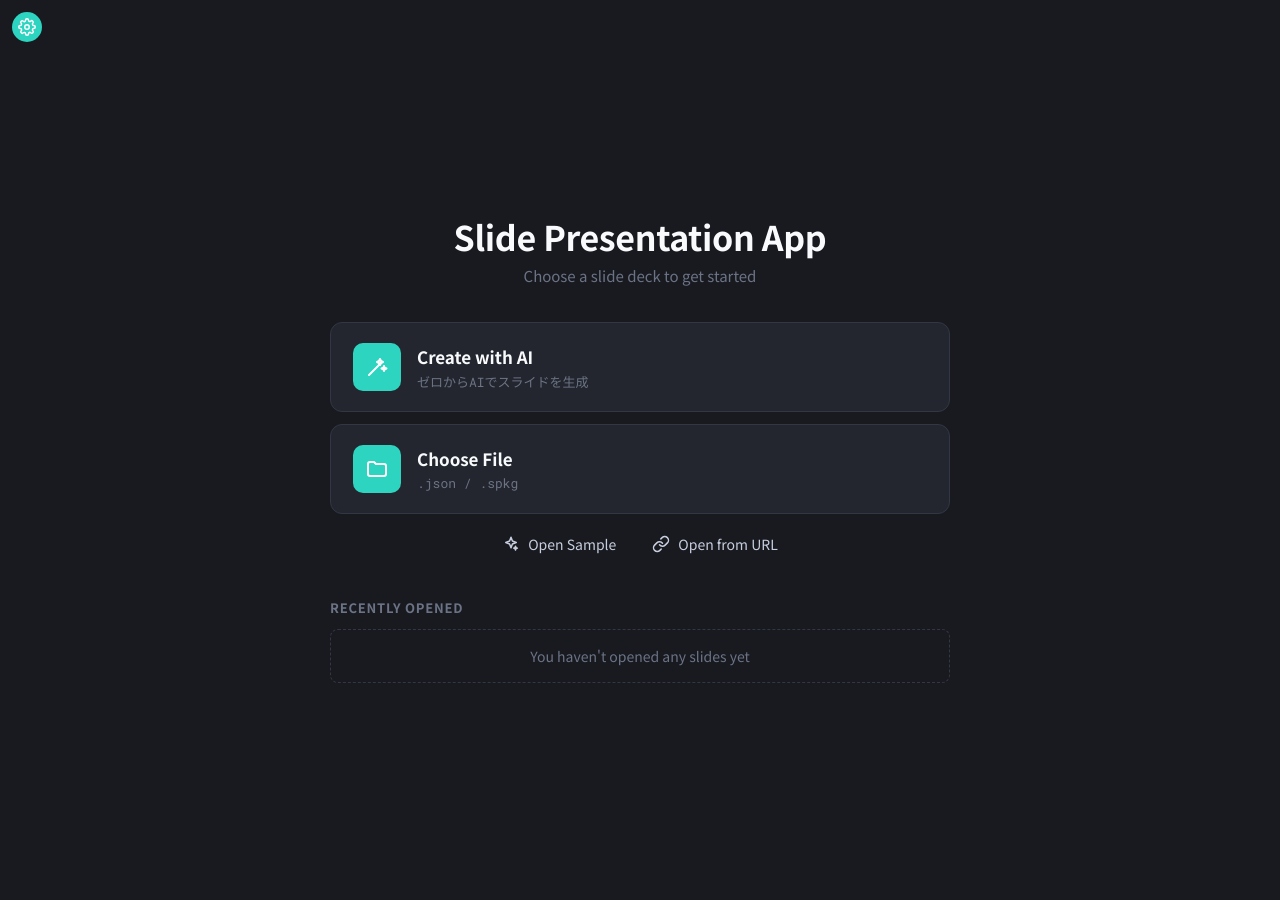
HomeScreen › URL入力欄が空の場合、開くボタンは無効化される
Click the button "Open from URL".
click(715, 544)  # box top-left (636, 526), bottom-right (794, 562)
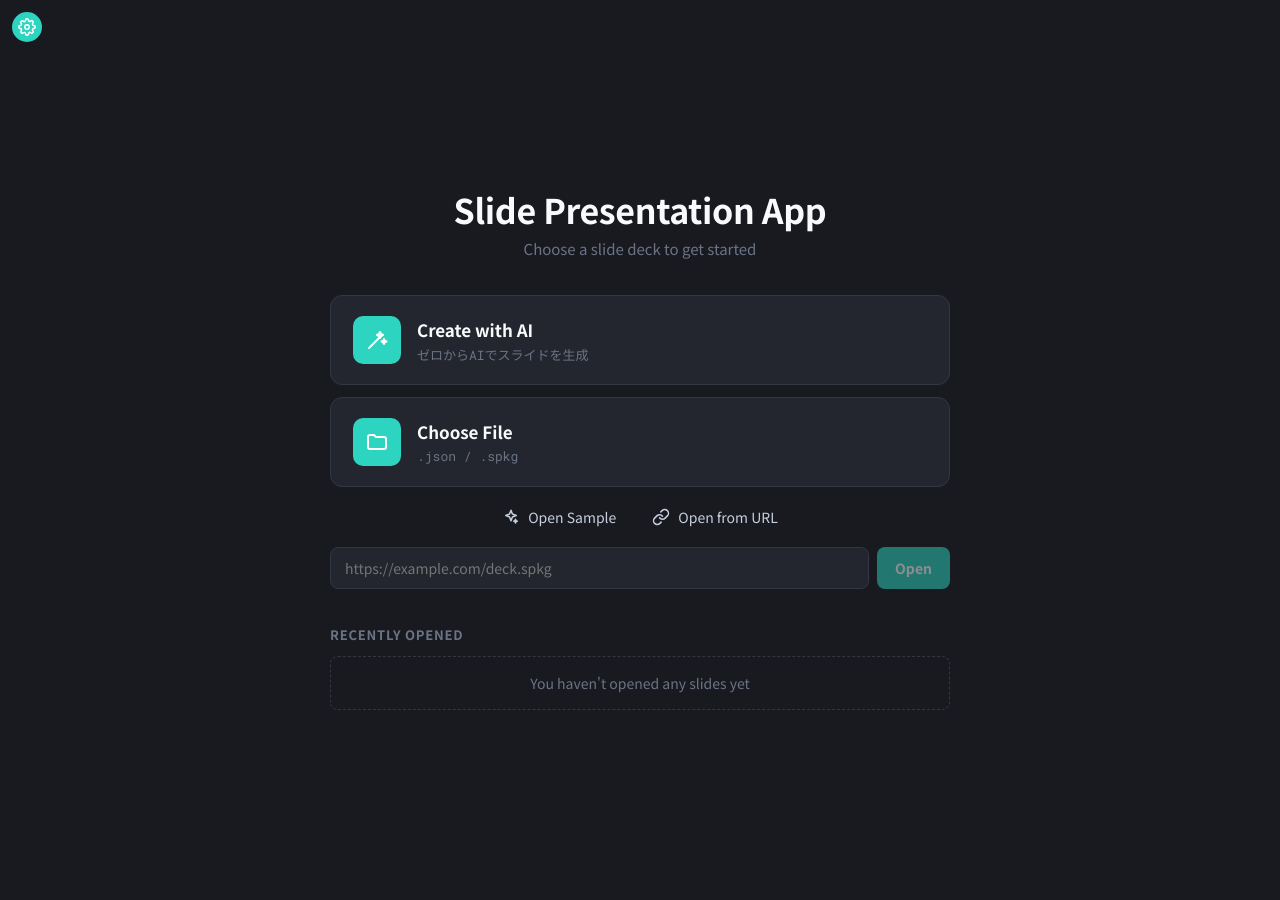
expect the button with test id "home-url-submit" is disabled: met, box top-left (877, 547), bottom-right (950, 589)
